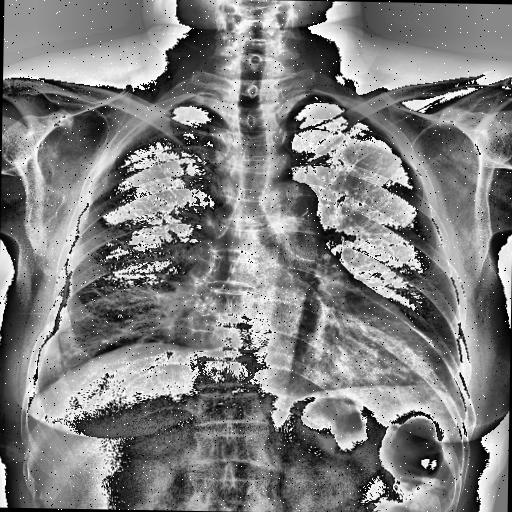0- Aortic enlargement: (258, 172, 344, 240)
2- Calcification: (228, 103, 274, 230), (260, 174, 320, 224)
3- Cardiomegaly: (198, 274, 452, 388), (207, 308, 434, 386)
5- ILD: (57, 222, 229, 381), (297, 241, 415, 390)
